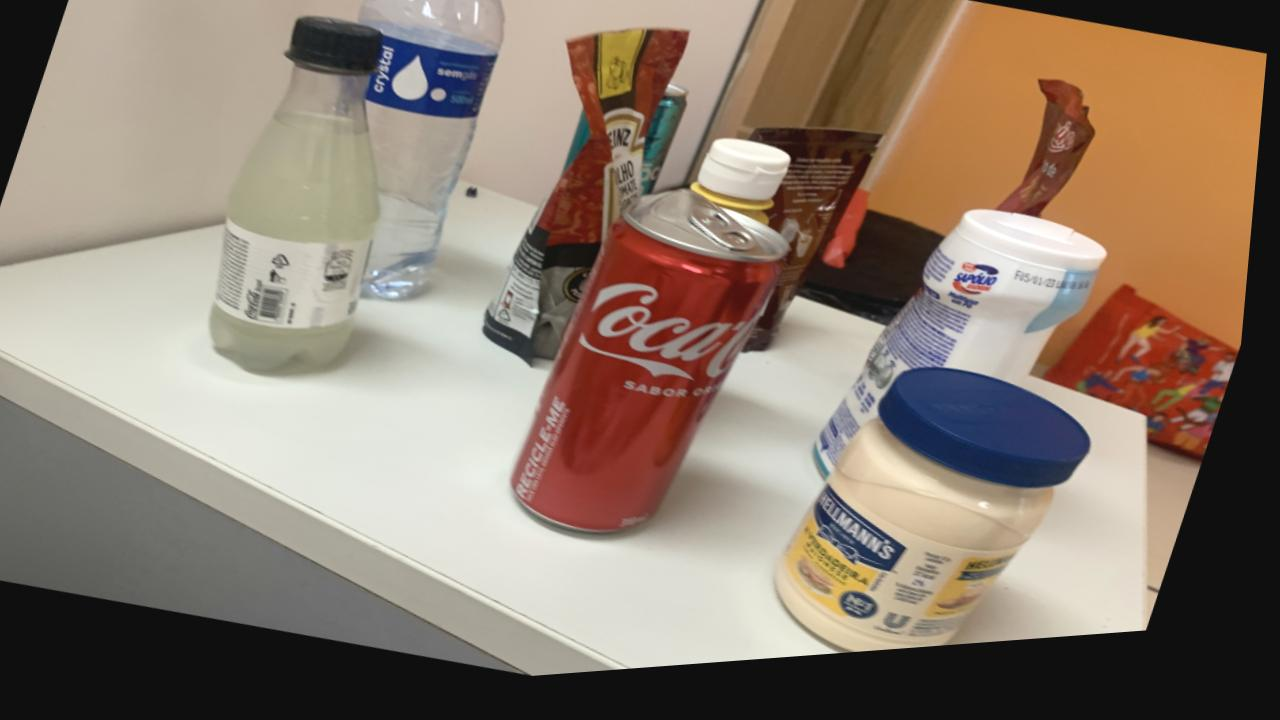Cleaner-Cleanup_Items: (823, 224, 1113, 489)
Coffee-Pantry_Items: (752, 140, 884, 364)
Coke-Drinks: (520, 200, 794, 543)
Mayonnaise-Pantry_Items: (787, 382, 1100, 666)
Mustard-Pantry_Items: (694, 149, 794, 238)
Soda-Drinks: (215, 21, 385, 376)
Tea-Drinks: (644, 95, 691, 206), (567, 121, 594, 178)
Tomato_Sauce-Pantry_Items: (489, 38, 690, 369), (1002, 95, 1099, 234)
Water_Bottle-Drinks: (359, 0, 506, 306)
